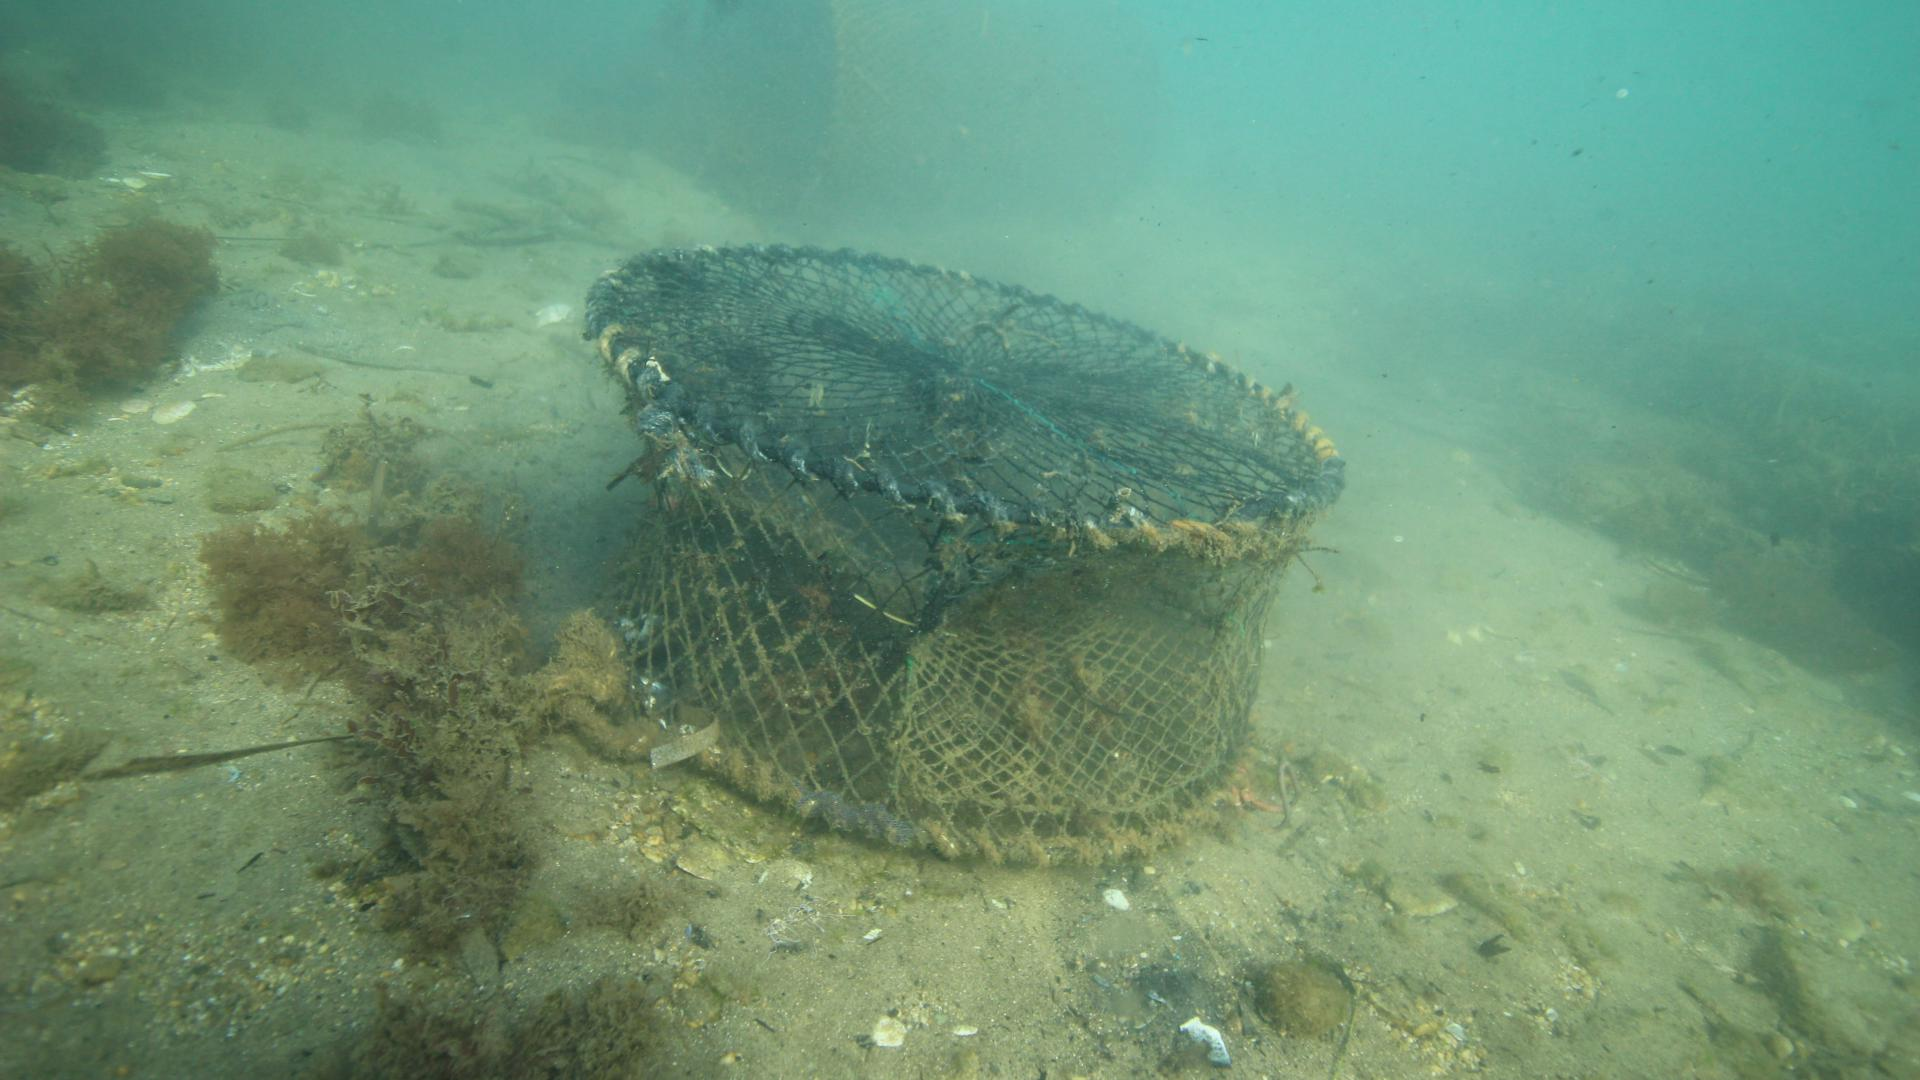circular fish trap: (578, 239, 1346, 866)
